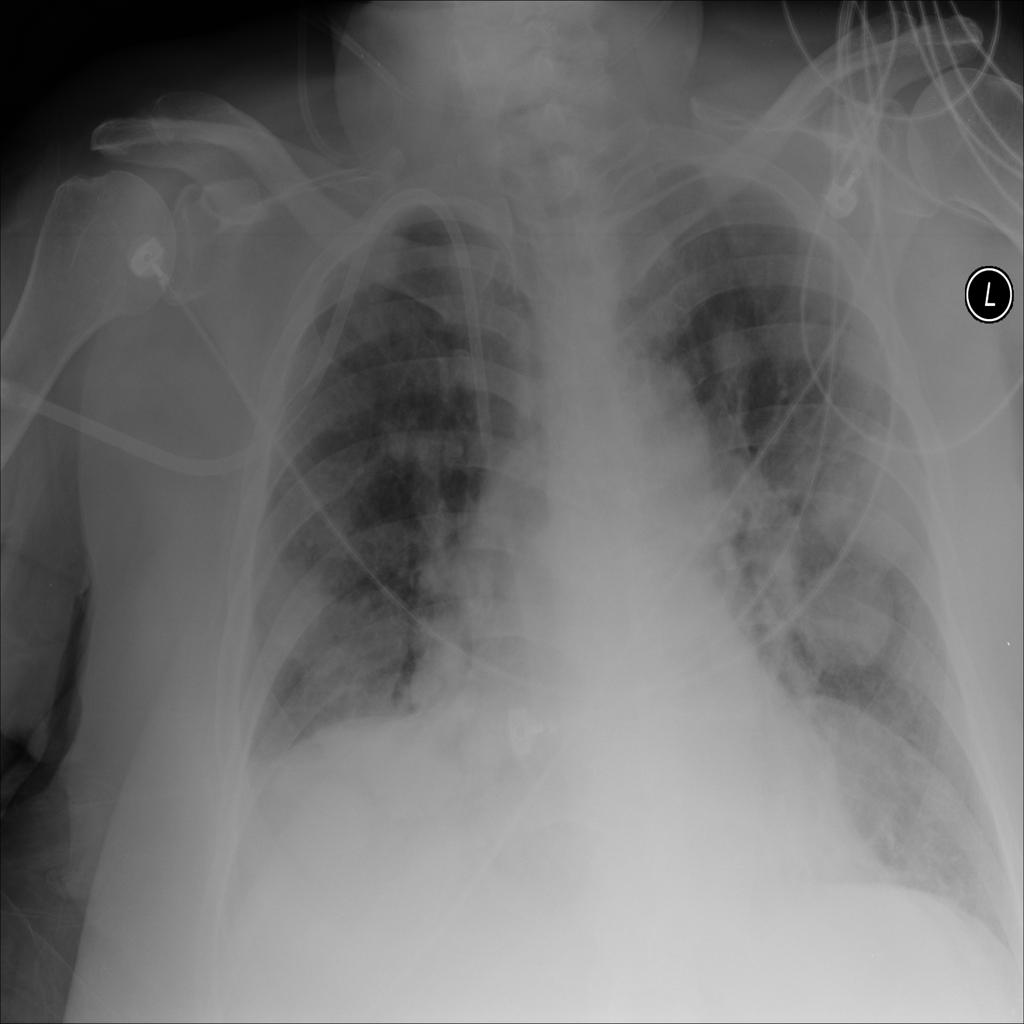nodule: (289, 576, 412, 721), (802, 403, 916, 555), (789, 554, 907, 675), (705, 320, 761, 386)
